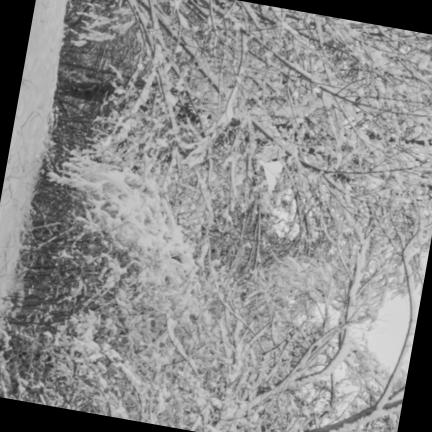Shahed: (258, 159, 286, 197)
